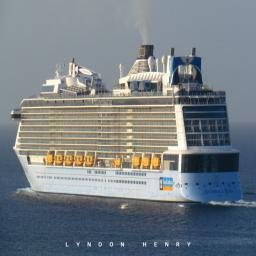cruises: (10, 43, 246, 208)
